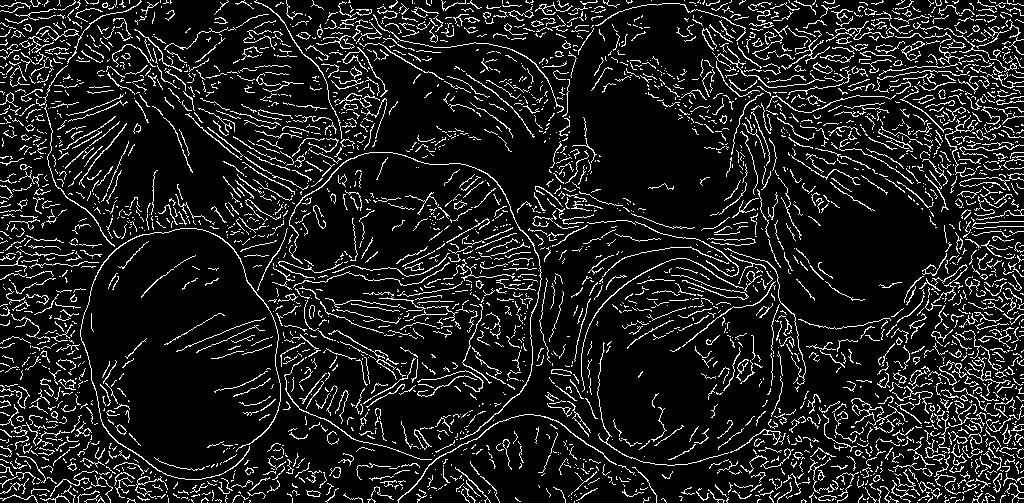onion: (257, 146, 550, 446), (50, 233, 295, 490), (725, 90, 979, 333), (557, 235, 777, 476), (102, 35, 357, 219), (332, 17, 554, 169)
